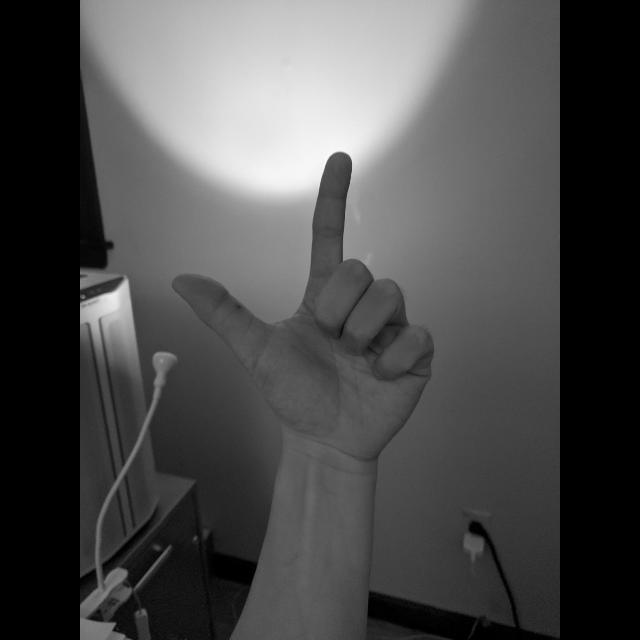L: (168, 145, 438, 463)
